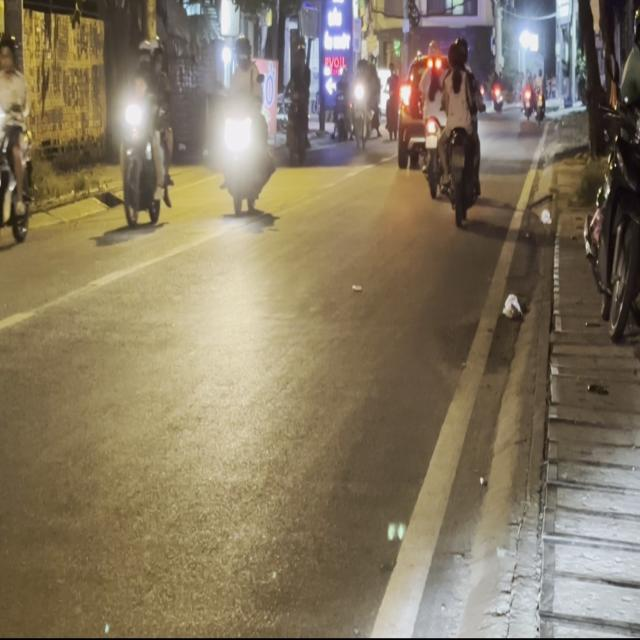helmet: (136, 36, 154, 69), (0, 35, 15, 70)
licenseplate: (583, 4, 640, 357), (115, 32, 175, 231), (0, 33, 35, 254)
